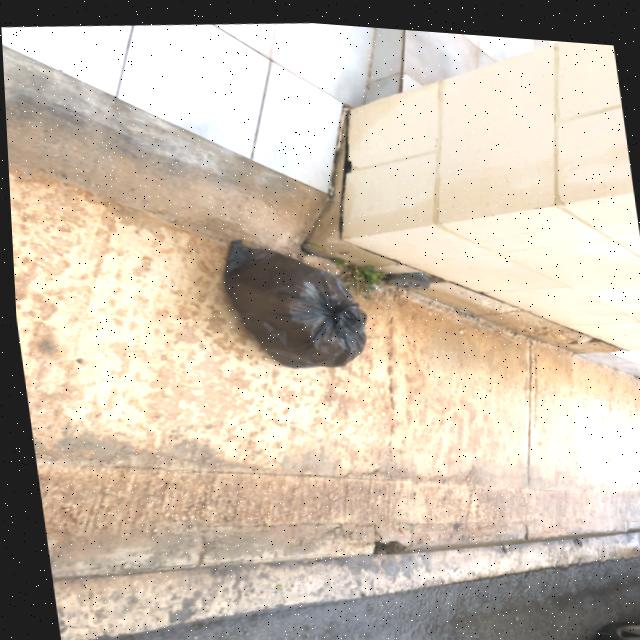Mixed Waste -Black Bag-: (217, 225, 370, 374)
